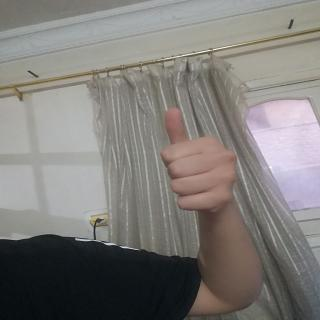ALIF: (159, 102, 243, 222)
